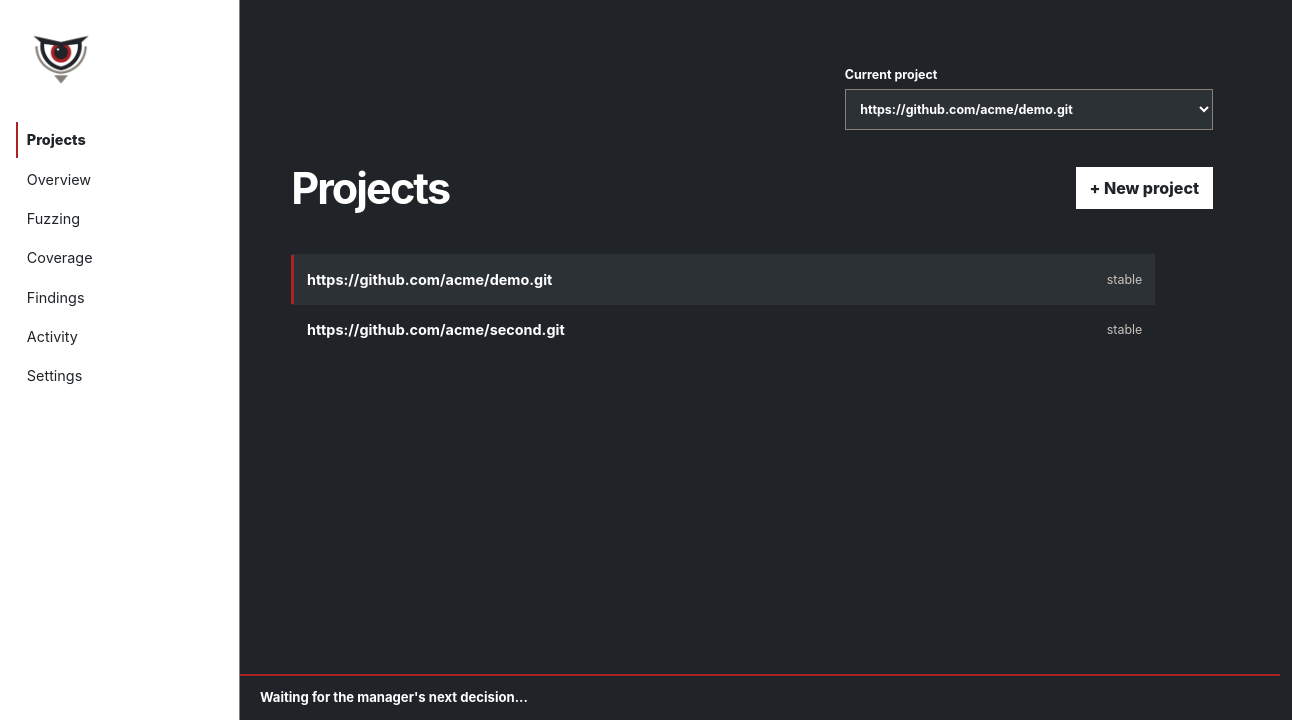
Scenario: App journey › keeps project B settings when a delayed save for project A completes
The width and height of the screenshot is (1292, 720).
Step 1. Click the link "Settings" → (55, 376), box [27, 367, 82, 384]
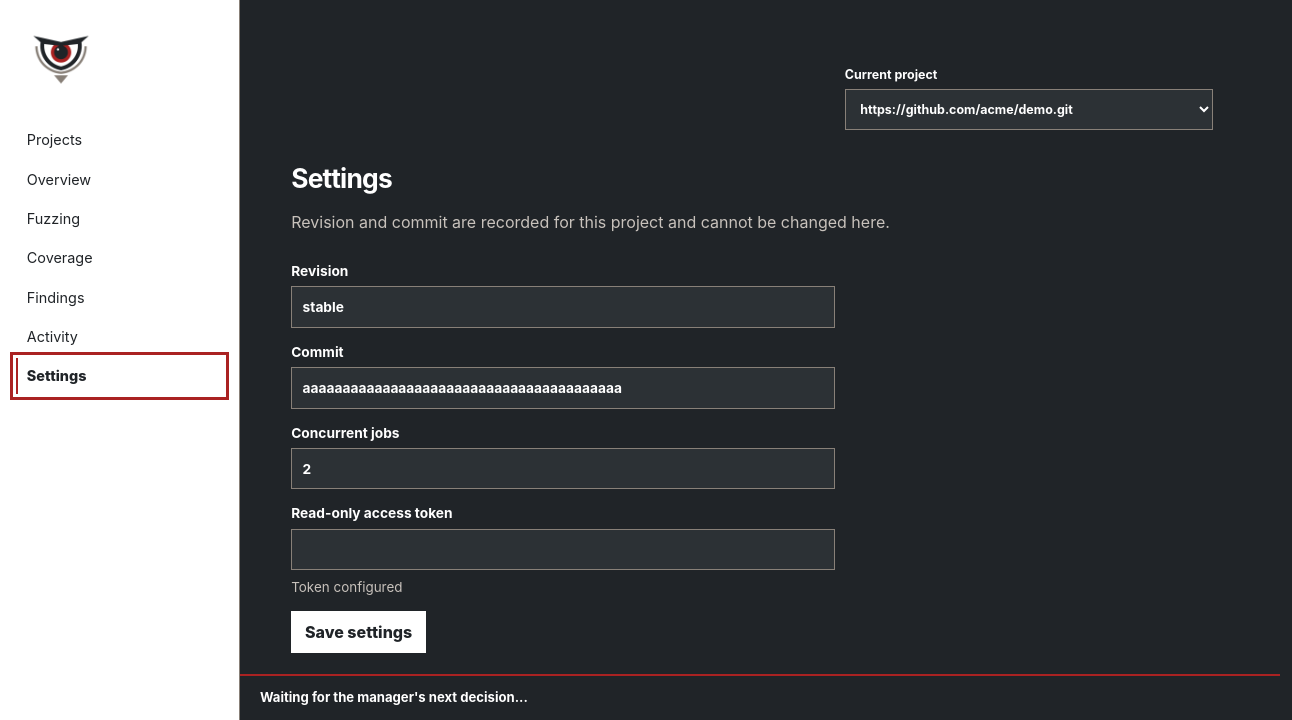
Check: the number field showing "2" is shown
Step 2. Replace the text in the number field labelled "Concurrent jobs" with "4" → (563, 468), box [291, 448, 835, 489]
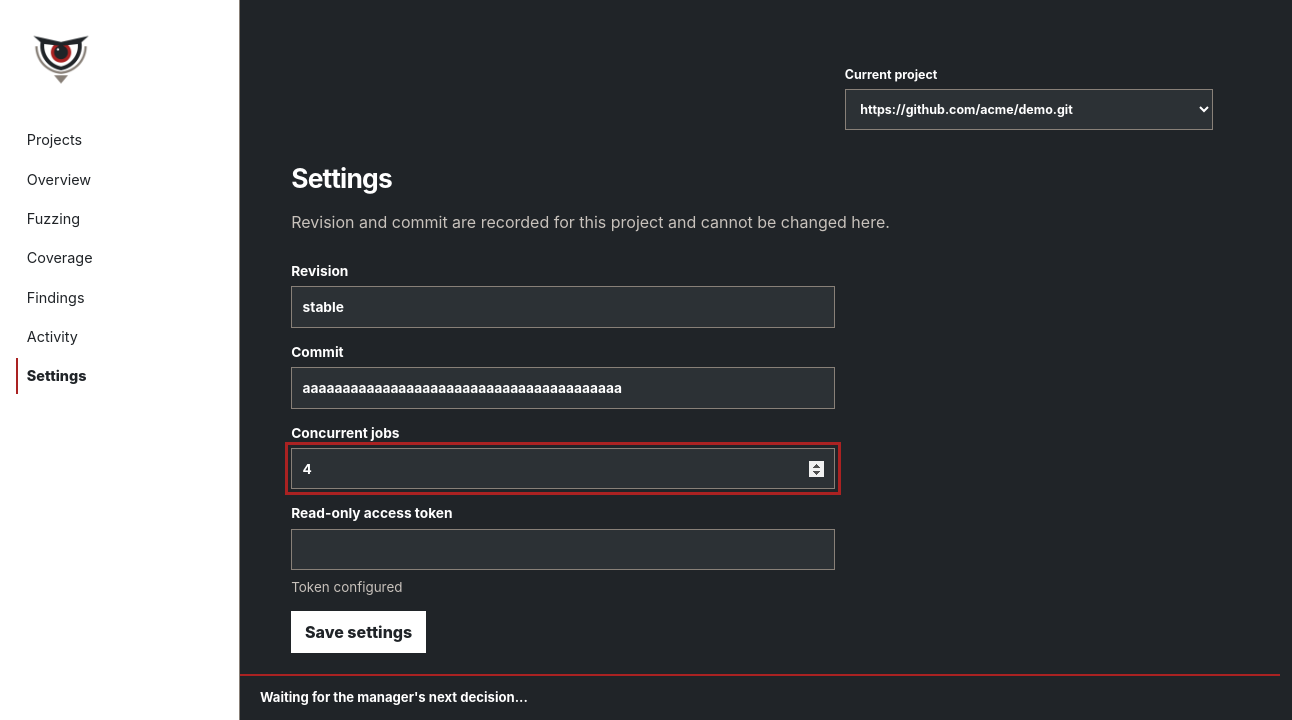
Step 3. Click the button "Save settings" → (359, 632), box [291, 611, 426, 652]
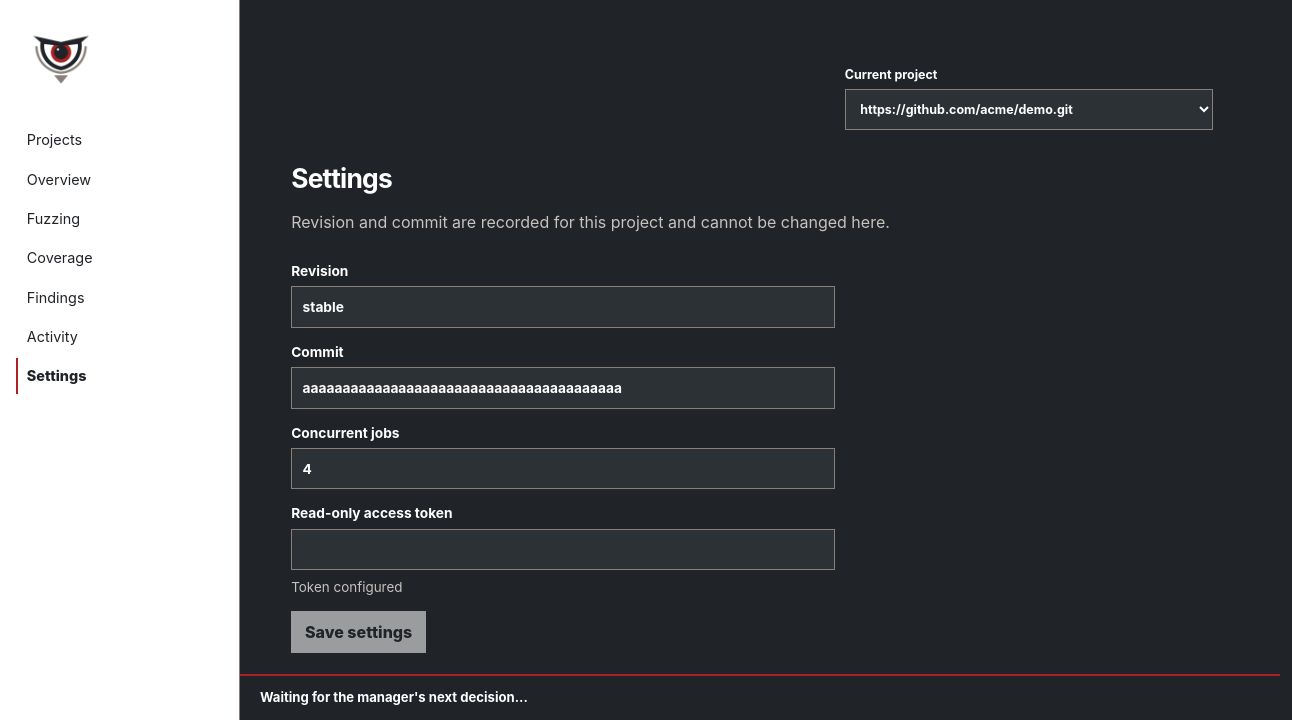
Step 4. Select "https://github.com/acme/second.git" in the dropdown labelled "Current project" → (1029, 109), box [845, 89, 1213, 130]
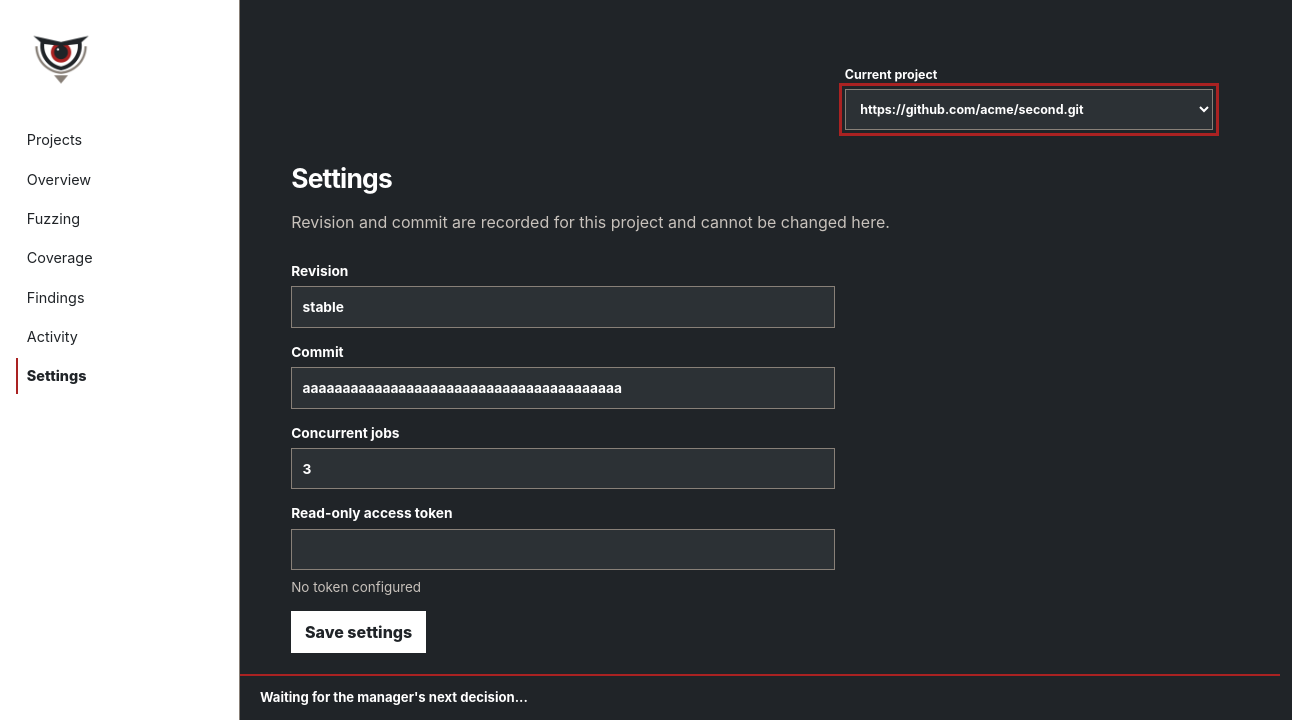
Check: the number field labelled "Concurrent jobs" holds "3", box [291, 448, 835, 489]
